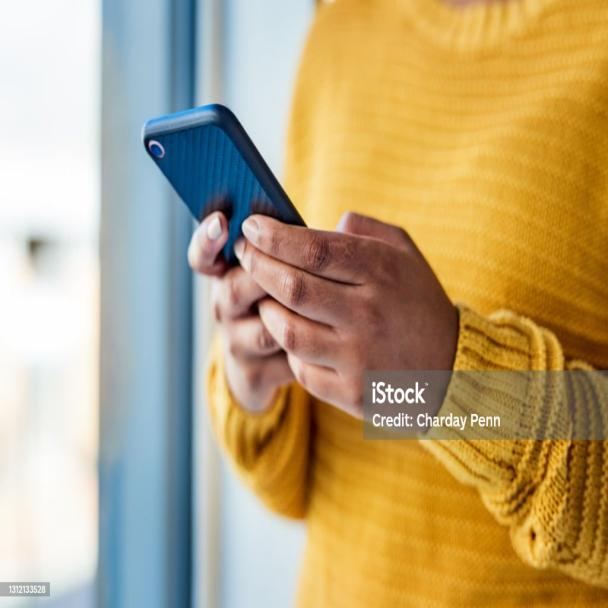Handphone: (128, 95, 351, 364)
